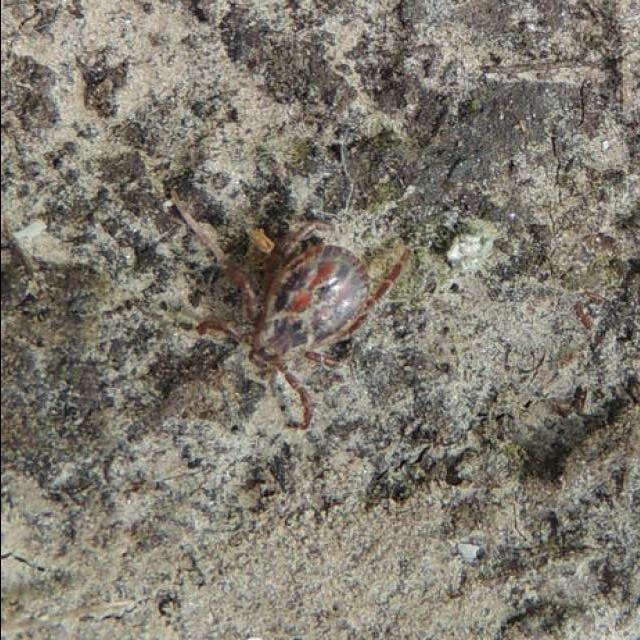Dermacentor Reticulatus-M: (194, 219, 409, 430)
